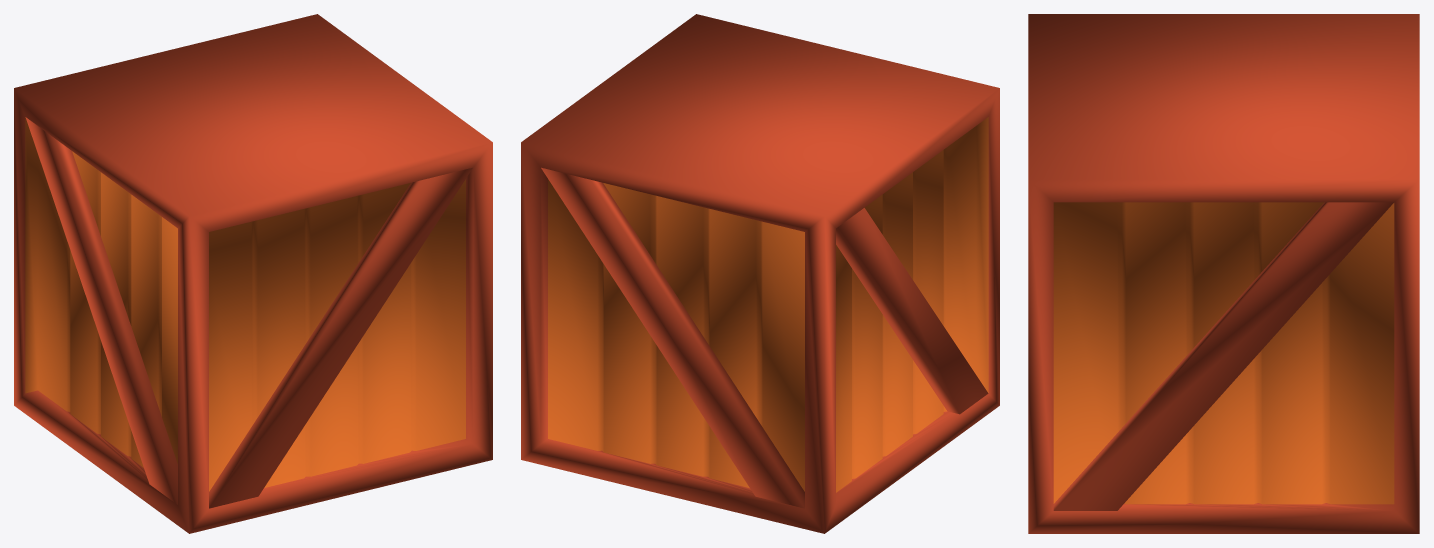
Rendered from Crate.fbx.
The picture shows the model from 3 angles, left to right: view 1: azimuth 30°, elevation 25°; view 2: azimuth 150°, elevation 25°; view 3: azimuth 270°, elevation 25°; orthographic projection. The views are drawn at different scales.
Parts seen in each view (by area): view 1: Crate; view 2: Crate; view 3: Crate.
Part boxes in pixels (box(x1,y1,x2,y2)): Crate: box(14, 14, 492, 533); Crate: box(521, 14, 999, 533); Crate: box(1028, 14, 1419, 533).
Bounding box in the file's own units: 85.43 × 85.43 × 85.43.
Materials: 1 (1 with a texture image).
